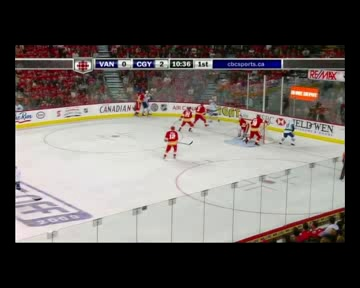normal: (235, 109, 272, 148), (176, 101, 210, 135)
